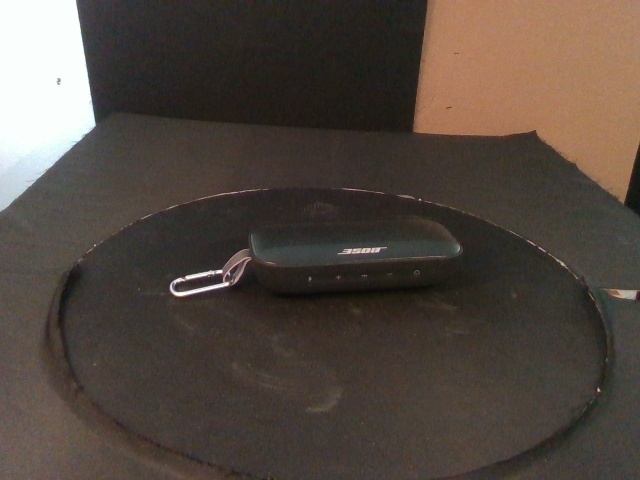speaker: (246, 217, 465, 298)
